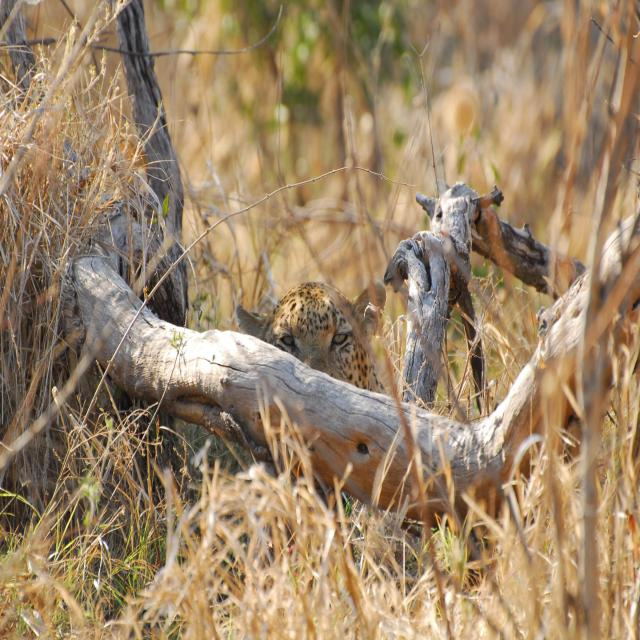Leopard: (235, 278, 377, 399)
